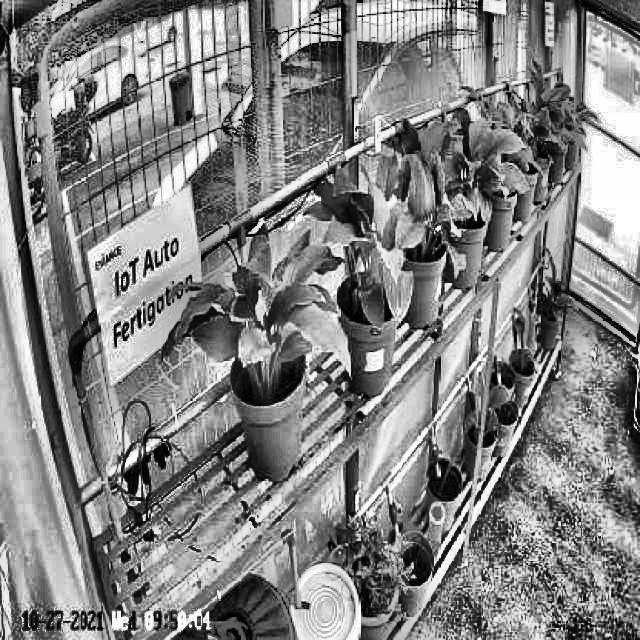plants: (160, 228, 349, 402), (308, 166, 412, 332), (371, 117, 464, 271), (428, 113, 530, 225)
